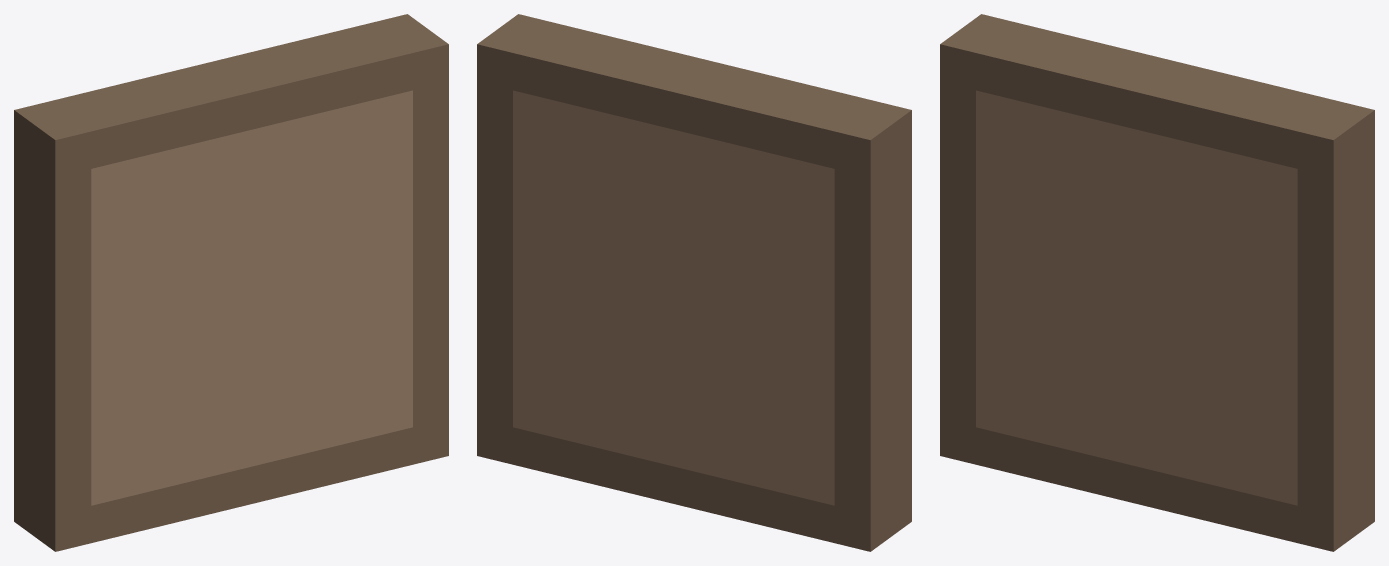
File: secadero_embutido_01.glb
3 views of the same model, side by side, from view 1: azimuth 30°, elevation 25°; view 2: azimuth 150°, elevation 25°; view 3: azimuth 330°, elevation 25° (orthographic).
Parts seen in each view (by area): view 1: secadero_embutido; view 2: secadero_embutido; view 3: secadero_embutido.
Boxes of the visible parts, left/top/right/bottom form: secadero_embutido: left=14, top=14, right=448, bottom=551; secadero_embutido: left=477, top=14, right=911, bottom=551; secadero_embutido: left=940, top=14, right=1374, bottom=551.
Size of the model in its own units: 1 by 1 by 0.1818.
